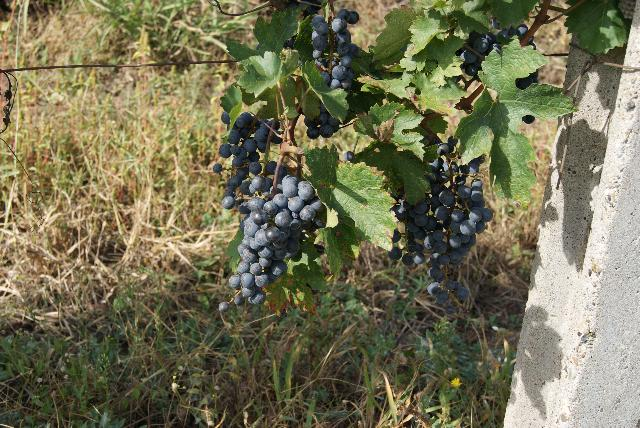grapes: (389, 138, 494, 315), (229, 175, 325, 305), (309, 9, 360, 91), (304, 100, 340, 140)
